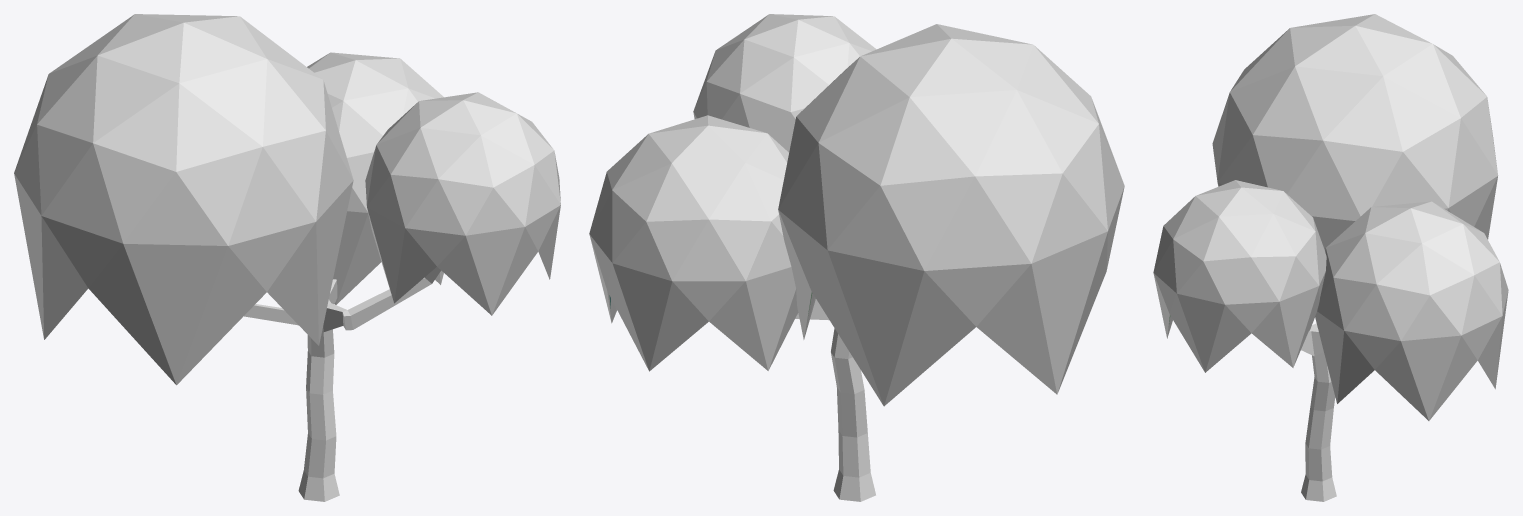
Rendered from resource__tree__willow-small.fbx.
3 views of the same model, side by side, from view 1: azimuth 30°, elevation 25°; view 2: azimuth 150°, elevation 25°; view 3: azimuth 270°, elevation 25° (orthographic). The views are drawn at different scales.
Visible parts, largest first — view 1: Willow_Small; view 2: Willow_Small; view 3: Willow_Small.
Part boxes in pixels (left/top/right/bottom): Willow_Small: left=14, top=14, right=560, bottom=501; Willow_Small: left=589, top=14, right=1124, bottom=501; Willow_Small: left=1153, top=14, right=1508, bottom=501.
Size of the model in its own units: 306 by 314 by 240.
